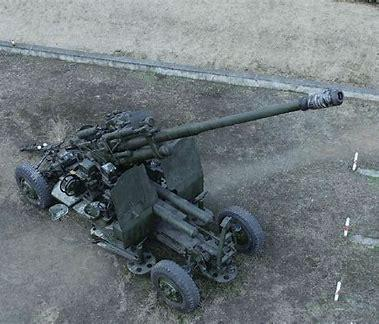MIL_SPG: (16, 89, 343, 311)
